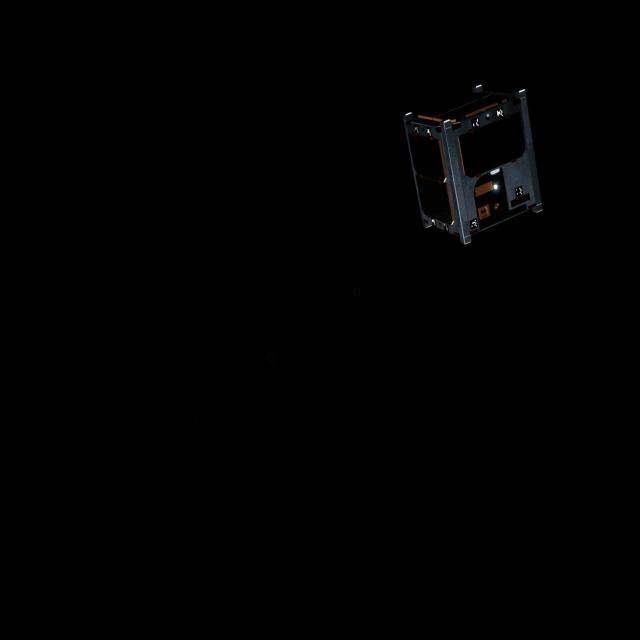medium_debris: (386, 80, 560, 253)
